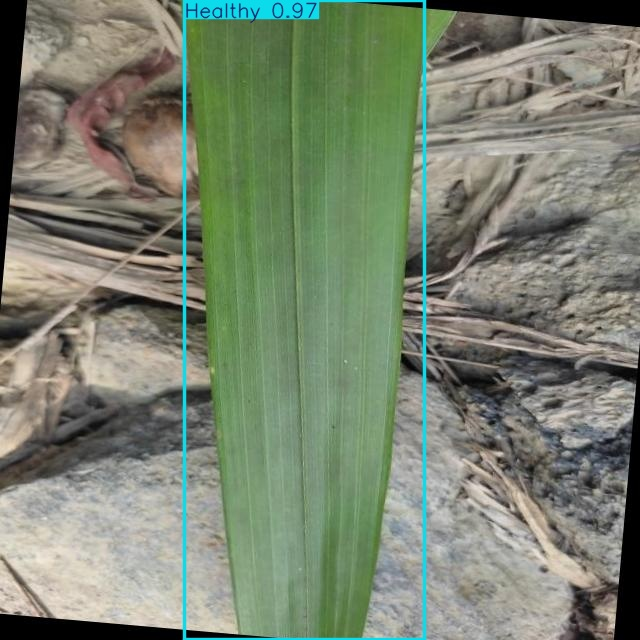Healthy: (184, 0, 425, 640)
